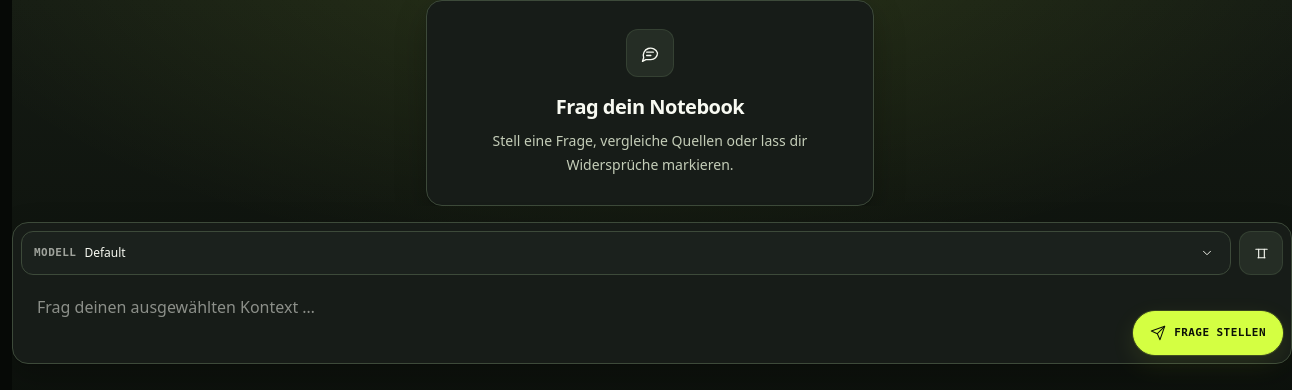
Test: ChatPanel › sendet ein kuratiertes OpenRouter-Modell
The image size is (1292, 390).
Click the button with aria-label "modell auswählen".
click(105, 252)  # box [84,241,1218,265]
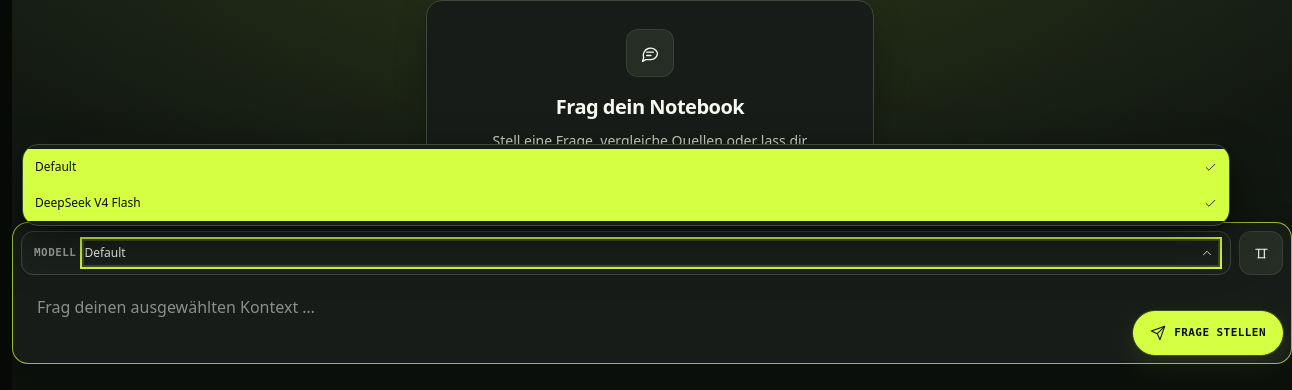
Click the button "DeepSeek V4 Flash".
click(88, 202)  # box [23,185,1229,221]
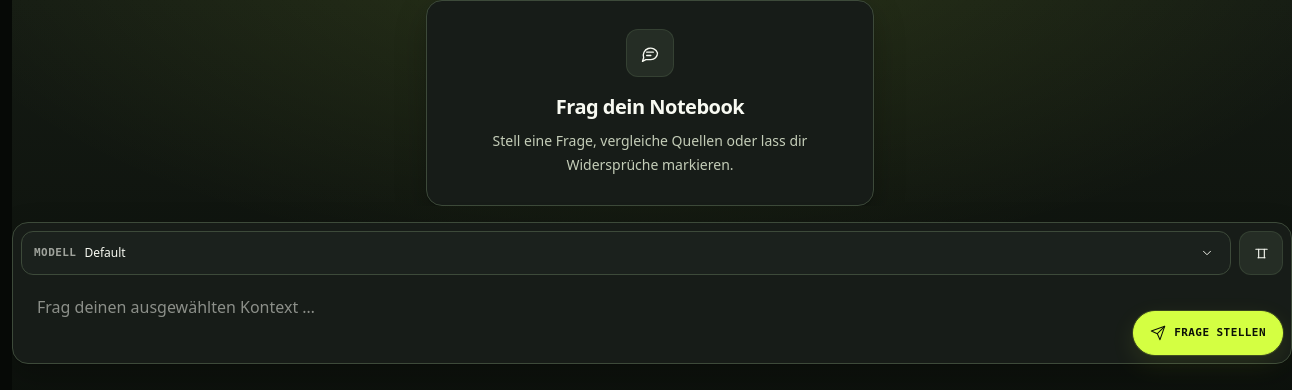
Type "Frage?" into the text box with placeholder "Frag deinen ausgewählten Kontext …".
click(573, 319); type("Frage?")  # box [21,283,1125,355]
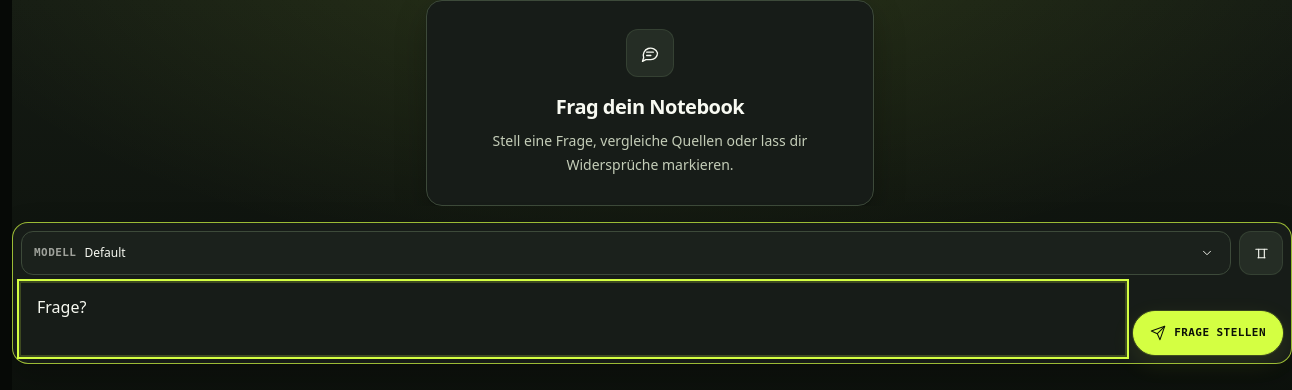
Click the button "Frage stellen".
click(1208, 333)  # box [1133,311,1283,355]
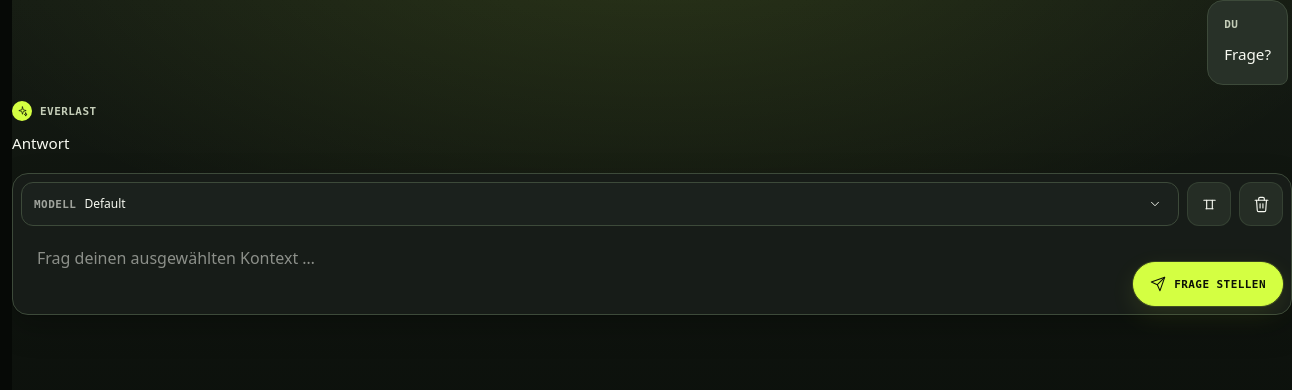
expect the text "Antwort" is shown: met, box [12,133,70,153]
